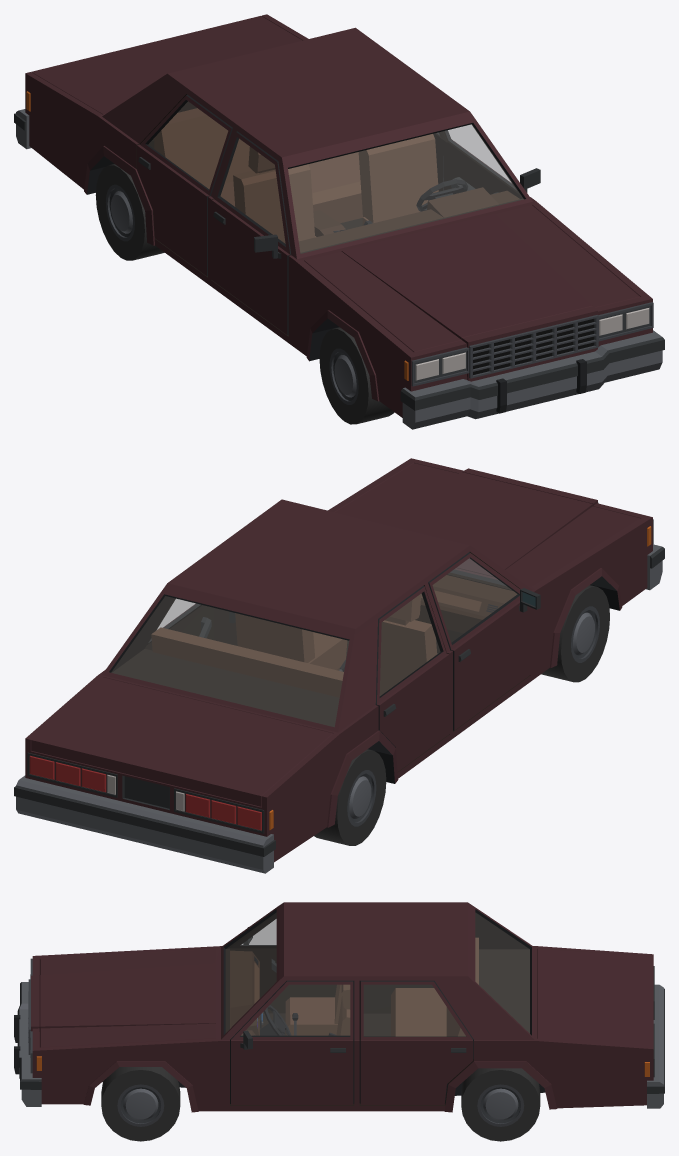
File: sedan.glb
3 renders of one model, top to bottom at view 1: azimuth 30°, elevation 25°; view 2: azimuth 150°, elevation 25°; view 3: azimuth 270°, elevation 25°, orthographic. The views are drawn at different scales.
Visible parts, largest first — view 1: SEDAN_02, INTERIOR.008, WINDOWS.006, DOOR FR.004, DOOR BR.004, WHEEL.1R.006, WHEEL.2R.006, WIN BR.001, WIN FL.006, DOOR FL.003, WIN FL.002; view 2: SEDAN_02, WINDOWS.006, INTERIOR.008, DOOR FR.004, DOOR BR.004, WHEEL.1R.006, WHEEL.2R.006, WIN FL.006, WIN BR.001, DOOR BL.004, DOOR FL.003; view 3: SEDAN_02, DOOR FL.003, INTERIOR.008, WINDOWS.006, DOOR BL.004, WHEEL.1L.006, WHEEL.2L.006, WIN BL.001, WIN FL.002, DOOR FR.004, DOOR BR.004, WIN FL.006.
Boxes of the visible parts, bbox=[...] form: SEDAN_02: bbox=[14, 14, 664, 429]; INTERIOR.008: bbox=[153, 108, 519, 252]; WINDOWS.006: bbox=[288, 124, 523, 253]; DOOR FR.004: bbox=[211, 131, 291, 335]; DOOR BR.004: bbox=[137, 94, 232, 275]; WHEEL.1R.006: bbox=[319, 327, 394, 424]; WHEEL.2R.006: bbox=[95, 164, 164, 260]; WIN BR.001: bbox=[148, 102, 227, 188]; WIN FL.006: bbox=[221, 139, 284, 242]; DOOR FL.003: bbox=[443, 124, 540, 198]; WIN FL.002: bbox=[445, 125, 514, 188]; SEDAN_02: bbox=[14, 458, 664, 873]; WINDOWS.006: bbox=[111, 559, 505, 726]; INTERIOR.008: bbox=[151, 575, 517, 697]; DOOR FR.004: bbox=[428, 552, 540, 730]; DOOR BR.004: bbox=[375, 585, 449, 771]; WHEEL.1R.006: bbox=[541, 585, 609, 682]; WHEEL.2R.006: bbox=[314, 749, 386, 845]; WIN FL.006: bbox=[433, 558, 516, 641]; WIN BR.001: bbox=[380, 594, 439, 695]; DOOR BL.004: bbox=[145, 598, 214, 650]; DOOR FL.003: bbox=[217, 608, 237, 645]; SEDAN_02: bbox=[14, 902, 664, 1112]; DOOR FL.003: bbox=[230, 980, 354, 1105]; INTERIOR.008: bbox=[230, 937, 478, 1036]; WINDOWS.006: bbox=[226, 913, 529, 1032]; DOOR BL.004: bbox=[359, 980, 473, 1105]; WHEEL.1L.006: bbox=[101, 1067, 180, 1141]; WHEEL.2L.006: bbox=[461, 1068, 540, 1141]; WIN BL.001: bbox=[364, 985, 465, 1036]; WIN FL.002: bbox=[241, 985, 349, 1035]; DOOR FR.004: bbox=[230, 914, 336, 1013]; DOOR BR.004: bbox=[363, 984, 433, 1013]; WIN FL.006: bbox=[241, 920, 275, 945].
Bounding box in the file's own units: 2.19 × 1.41 × 5.38.
2 materials, 2 textured.
